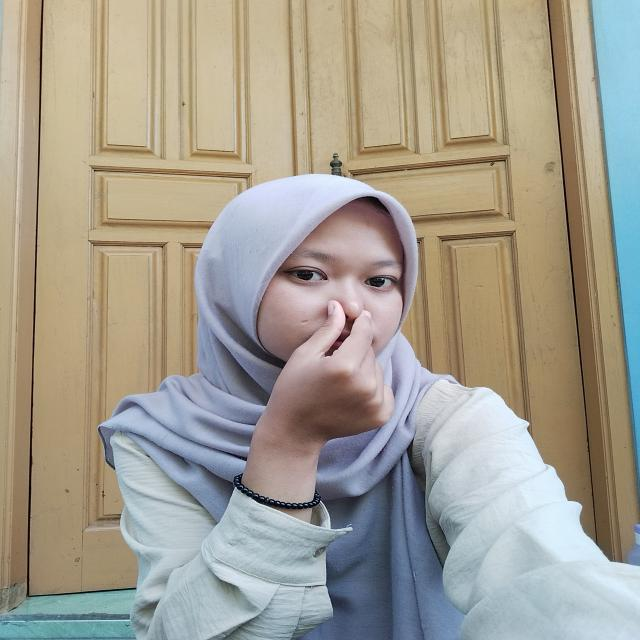bau: (282, 290, 400, 446)
